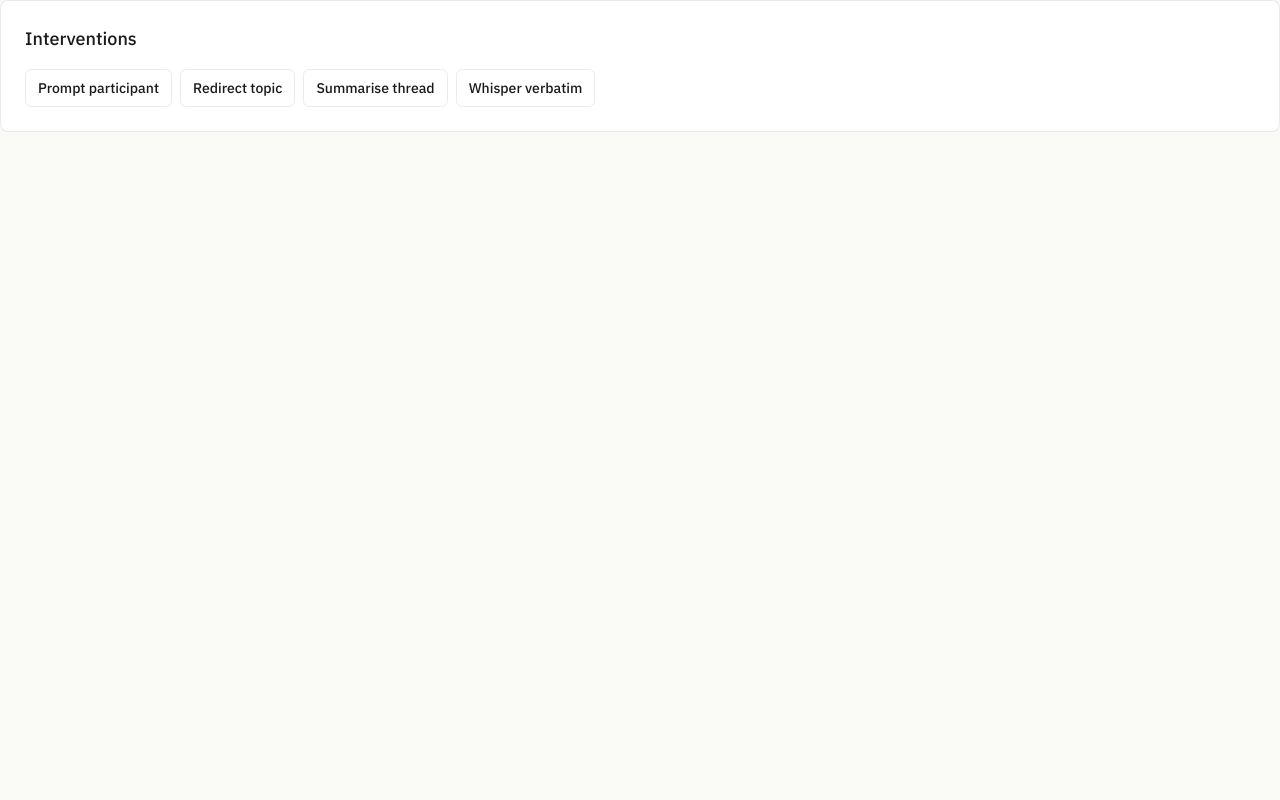
it: <InterventionModals /> — force_prompt › opens a dialog with target select + hint textarea when "Prompt participant" is clicked
Step 1. Click the button "Prompt participant" → [98, 88], box [25, 69, 172, 107]
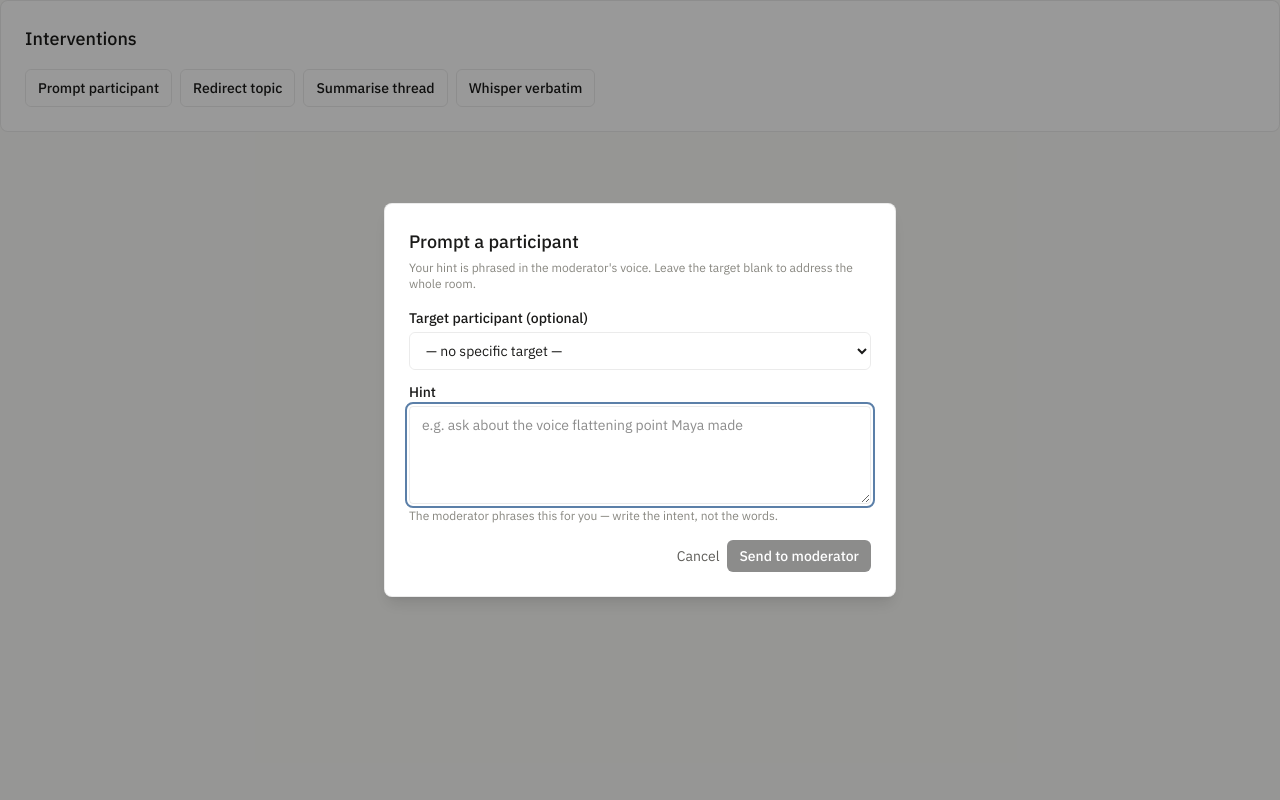
Expected: the dropdown labelled "Target participant (optional)" is shown, [409, 332, 871, 370]
Expected: the text box labelled "Hint" is shown, [409, 406, 871, 504]
